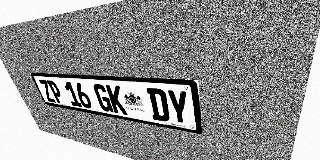1: (62, 81, 82, 107)
6: (73, 82, 93, 109)
D: (146, 88, 170, 122)
G: (92, 84, 114, 113)
K: (105, 85, 128, 115)
P: (46, 80, 65, 104)
Y: (166, 89, 190, 126)
Z: (38, 79, 56, 103)
